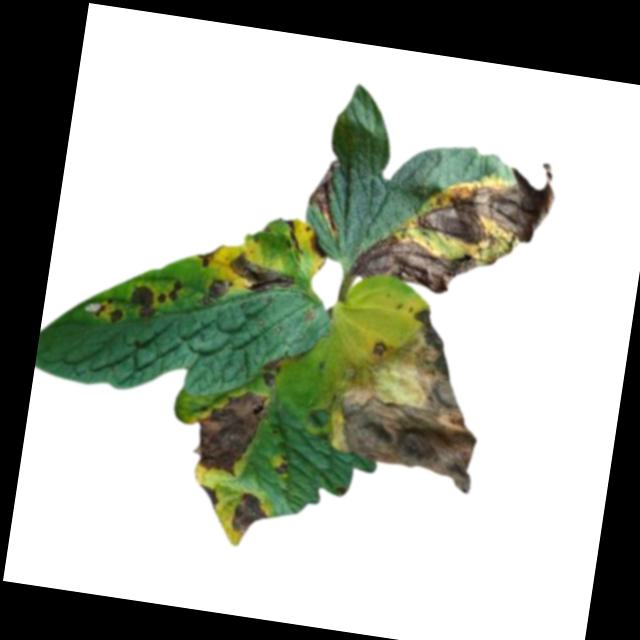Early_blight: (320, 295, 497, 496), (400, 141, 562, 256), (348, 226, 500, 303), (188, 383, 273, 483), (226, 250, 299, 301), (304, 157, 345, 231), (230, 487, 274, 542), (127, 281, 159, 321), (197, 274, 233, 309), (93, 294, 126, 328), (152, 274, 185, 308), (303, 228, 331, 261), (193, 238, 219, 271), (194, 483, 221, 511), (259, 360, 281, 388), (270, 452, 289, 477)
